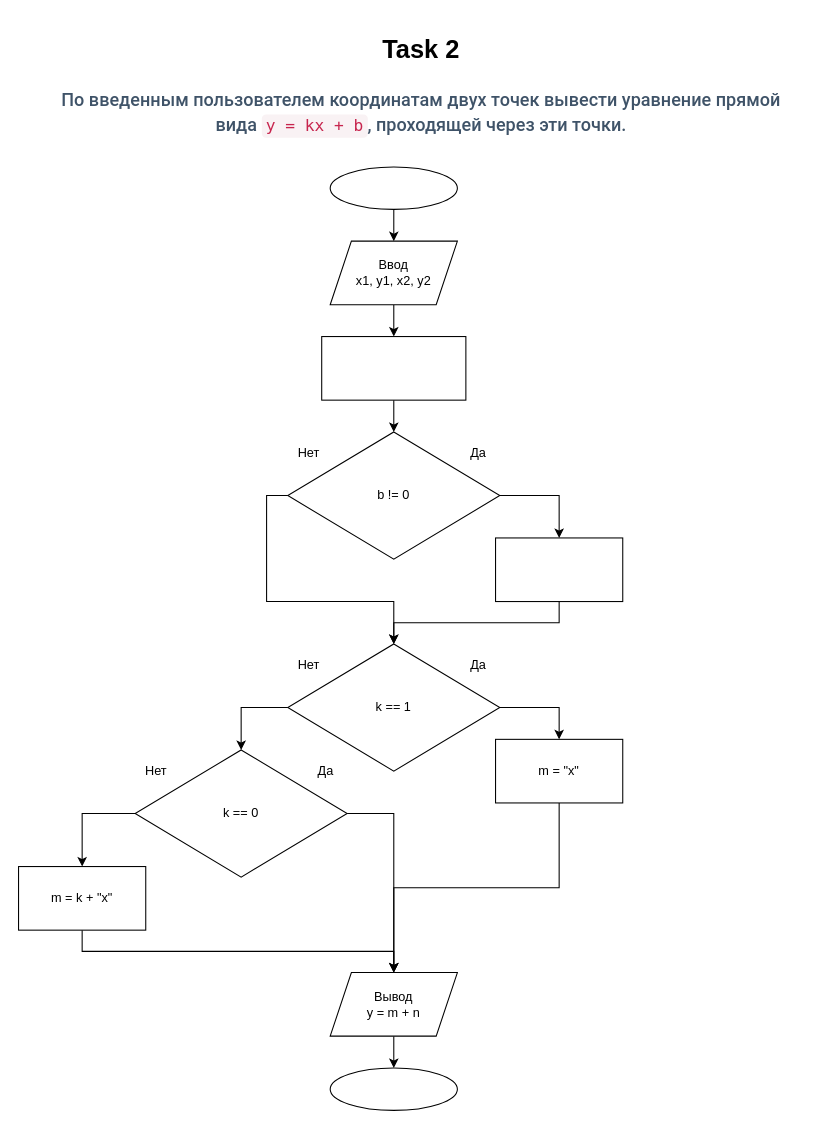
Some shapes in this 821 by 1129 pixel diagram are drawn without their labels. The centre of each missing label's shape, as x and y in pixels:
k = (y2 - y1) / (x2 - x1) b = y1 - k * x1 m = "" n = "": (x=393, y=367)
n = " + " + b: (x=558, y=569)
Конец: (x=393, y=1088)
Начало: (x=393, y=187)
